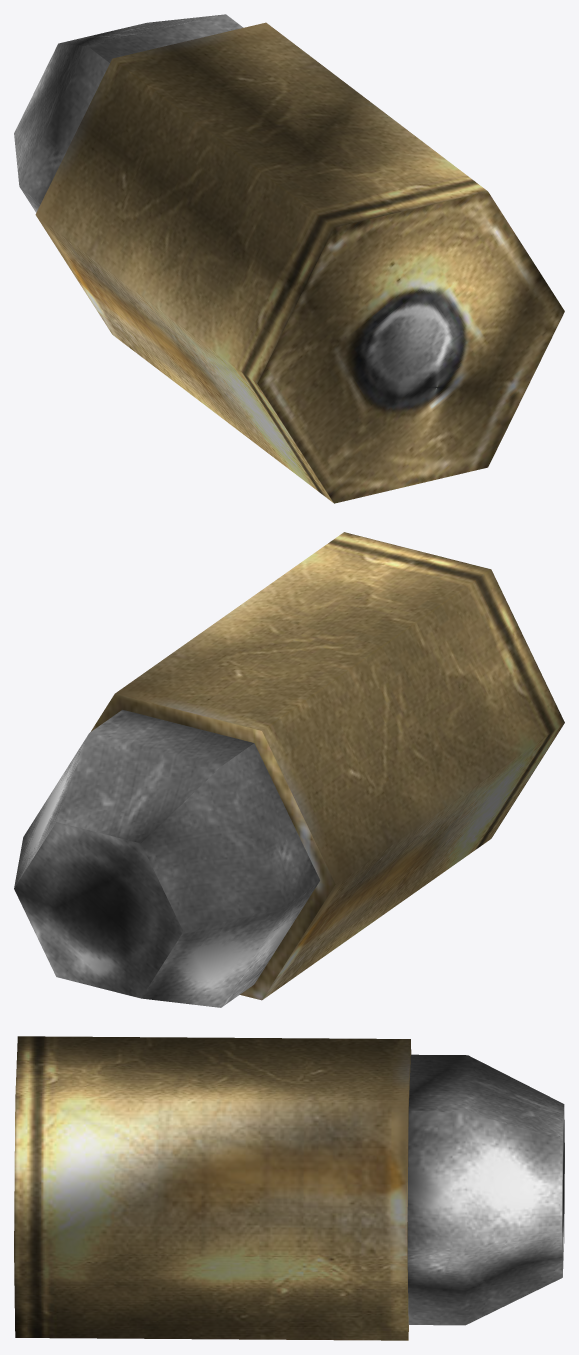
File: shot.obj
The picture shows the model from 3 angles, top to bottom: view 1: azimuth 30°, elevation 25°; view 2: azimuth 150°, elevation 25°; view 3: azimuth 270°, elevation 25°; orthographic projection. The views are drawn at different scales.
Visible parts, largest first — view 1: objBullet_Bullet_UV; view 2: objBullet_Bullet_UV; view 3: objBullet_Bullet_UV.
Part boxes in pixels (left/top/right/bottom): objBullet_Bullet_UV: left=14, top=14, right=564, bottom=503; objBullet_Bullet_UV: left=14, top=532, right=564, bottom=1007; objBullet_Bullet_UV: left=14, top=1036, right=564, bottom=1340.
Bounding box in the file's own units: 2.04 × 1.73 × 3.64.
1 material, 1 textured.
